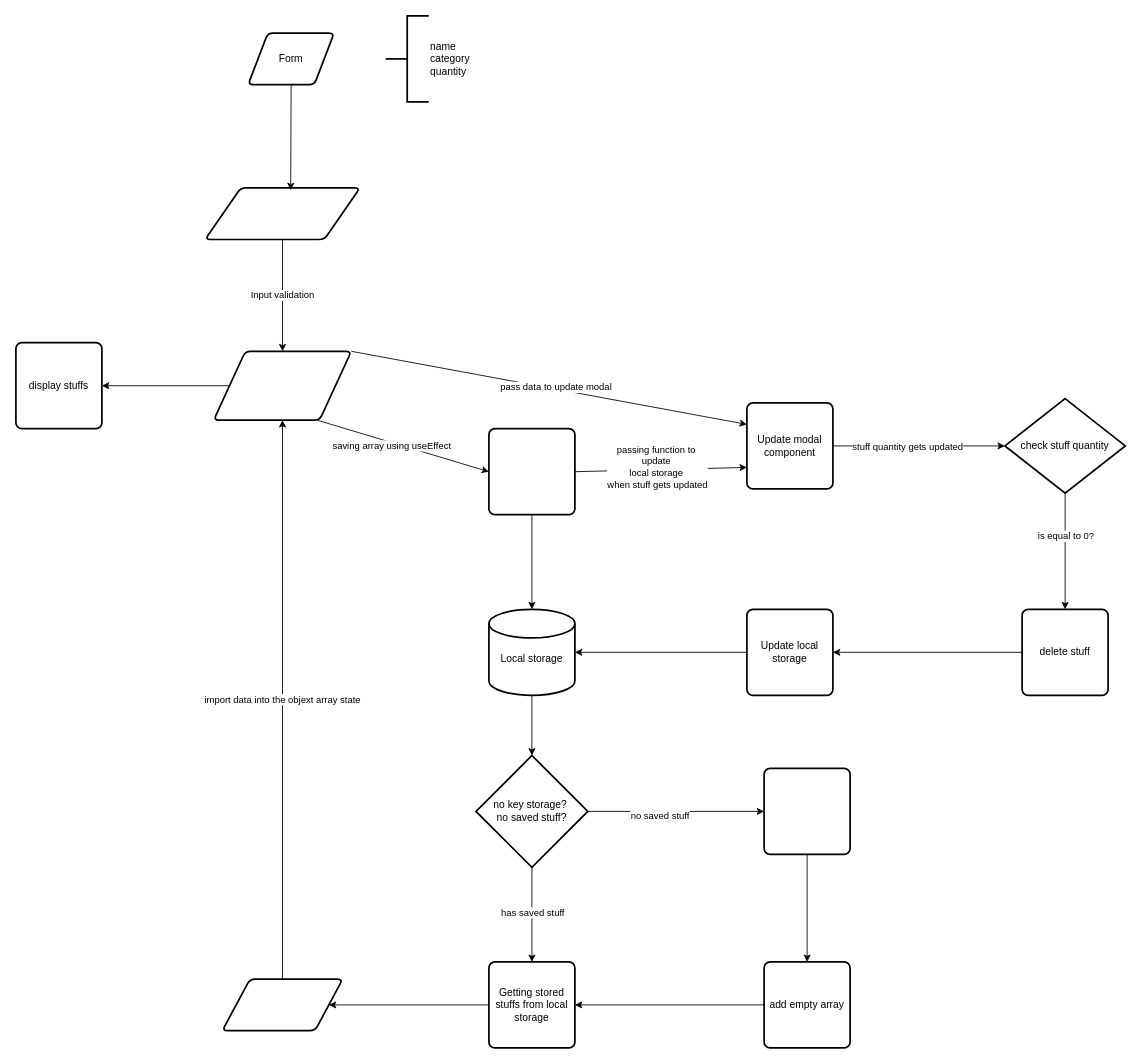
Some shapes in this 1140 by 1063 pixel diagram are drawn without their labels. Each missing label, with the centre of its shape:
"create key storage" goes at pixel 807 811.
"Saving stuffs to local storage" goes at pixel 531 471.
"Stuff array object state" goes at pixel 282 385.
"STUFF NAME, STUFF CATEGORY, STUFF QUANTITY" goes at pixel 282 213.
"stuffData.js array" goes at pixel 282 1004.
